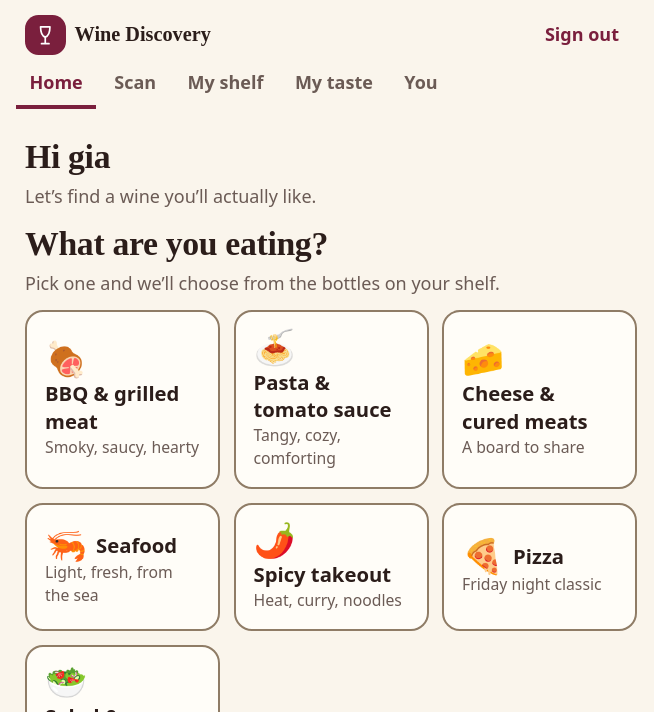
Test case: ranked results › logs meal_selected once per visit, with what was picked
What coordinates should you click on to do the following:
click the link "🦐 Seafood Light, fresh, from the sea"
I would click on:
 (122, 567)
Its box is left=25, top=503, right=220, bottom=631.
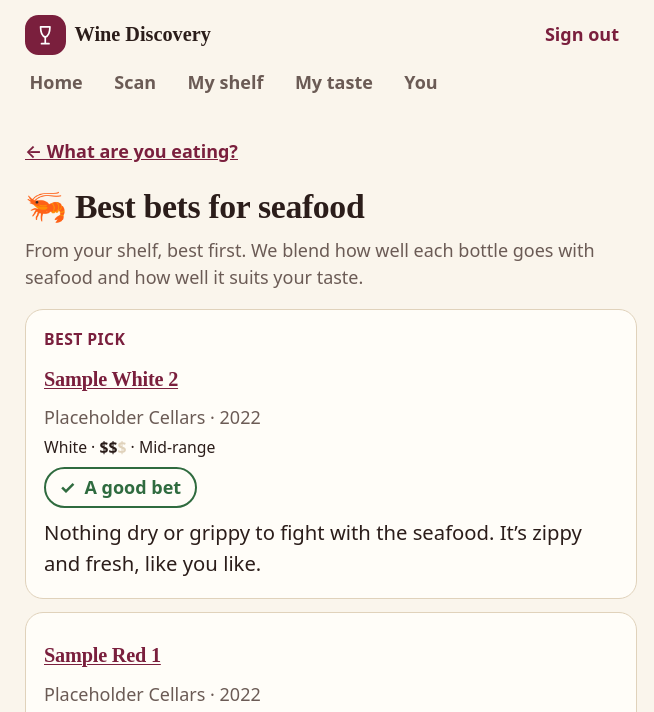
Expected: the heading "🦐 Best bets for seafood" is shown, left=25, top=188, right=364, bottom=224
What coordinates should you click on to do the following:
click the link "← What are you eating?"
I would click on:
 (132, 151)
Its box is left=25, top=139, right=238, bottom=163.
(page scrolled)
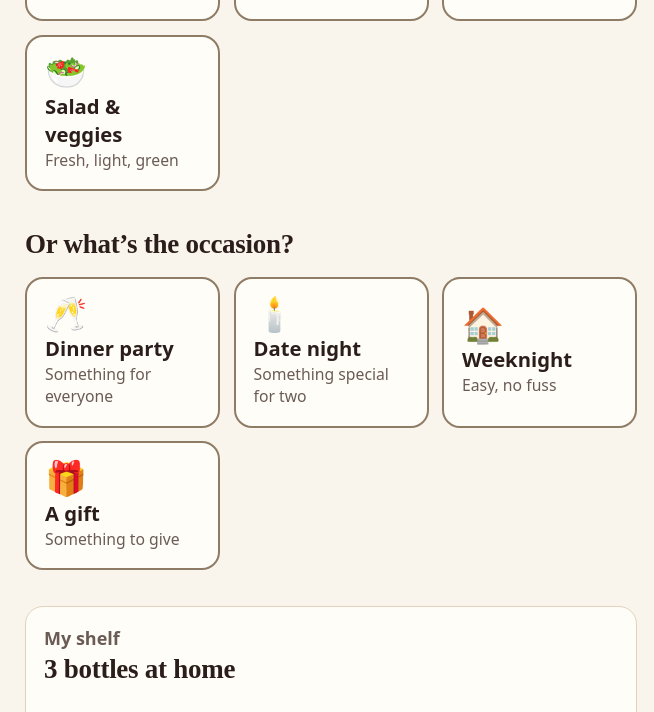
What coordinates should you click on to do the following:
click the link "🕯️ Date night Something special for two"
I would click on:
 (331, 352)
Its box is left=234, top=277, right=428, bottom=428.
(page scrolled)
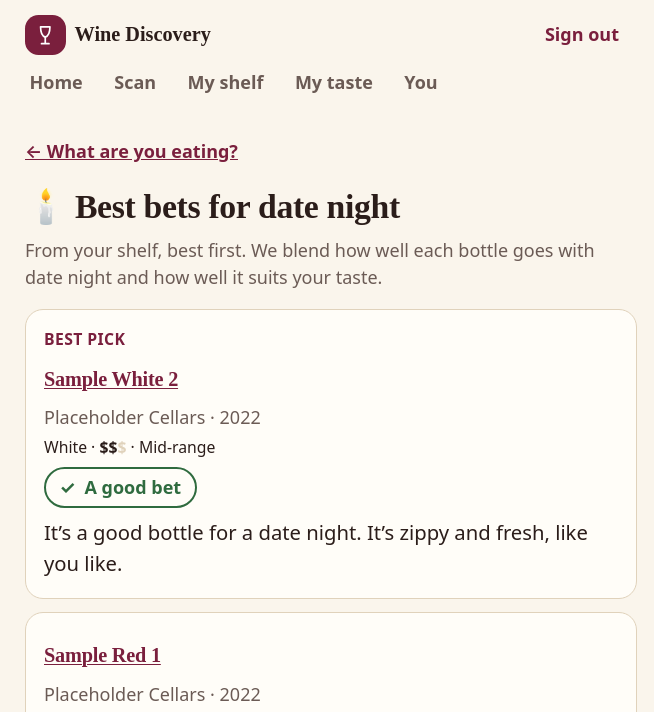
Expected: the heading "🕯️ Best bets for date night" is shown, left=25, top=188, right=400, bottom=224
